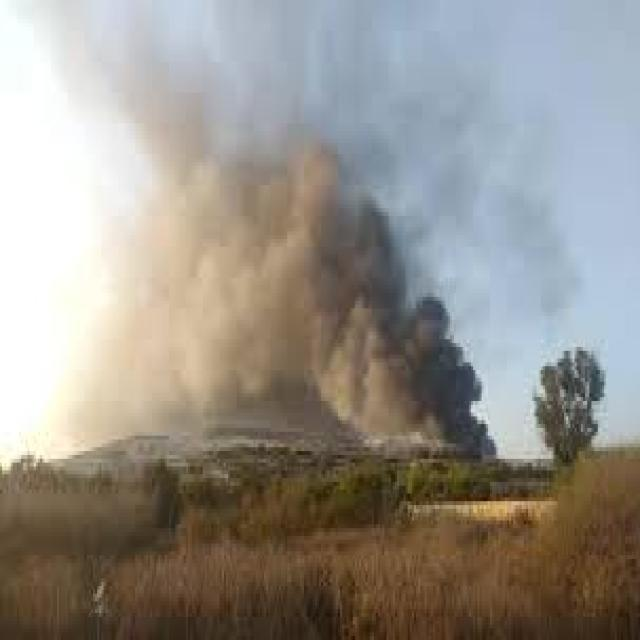Smoke: (11, 0, 584, 432)
